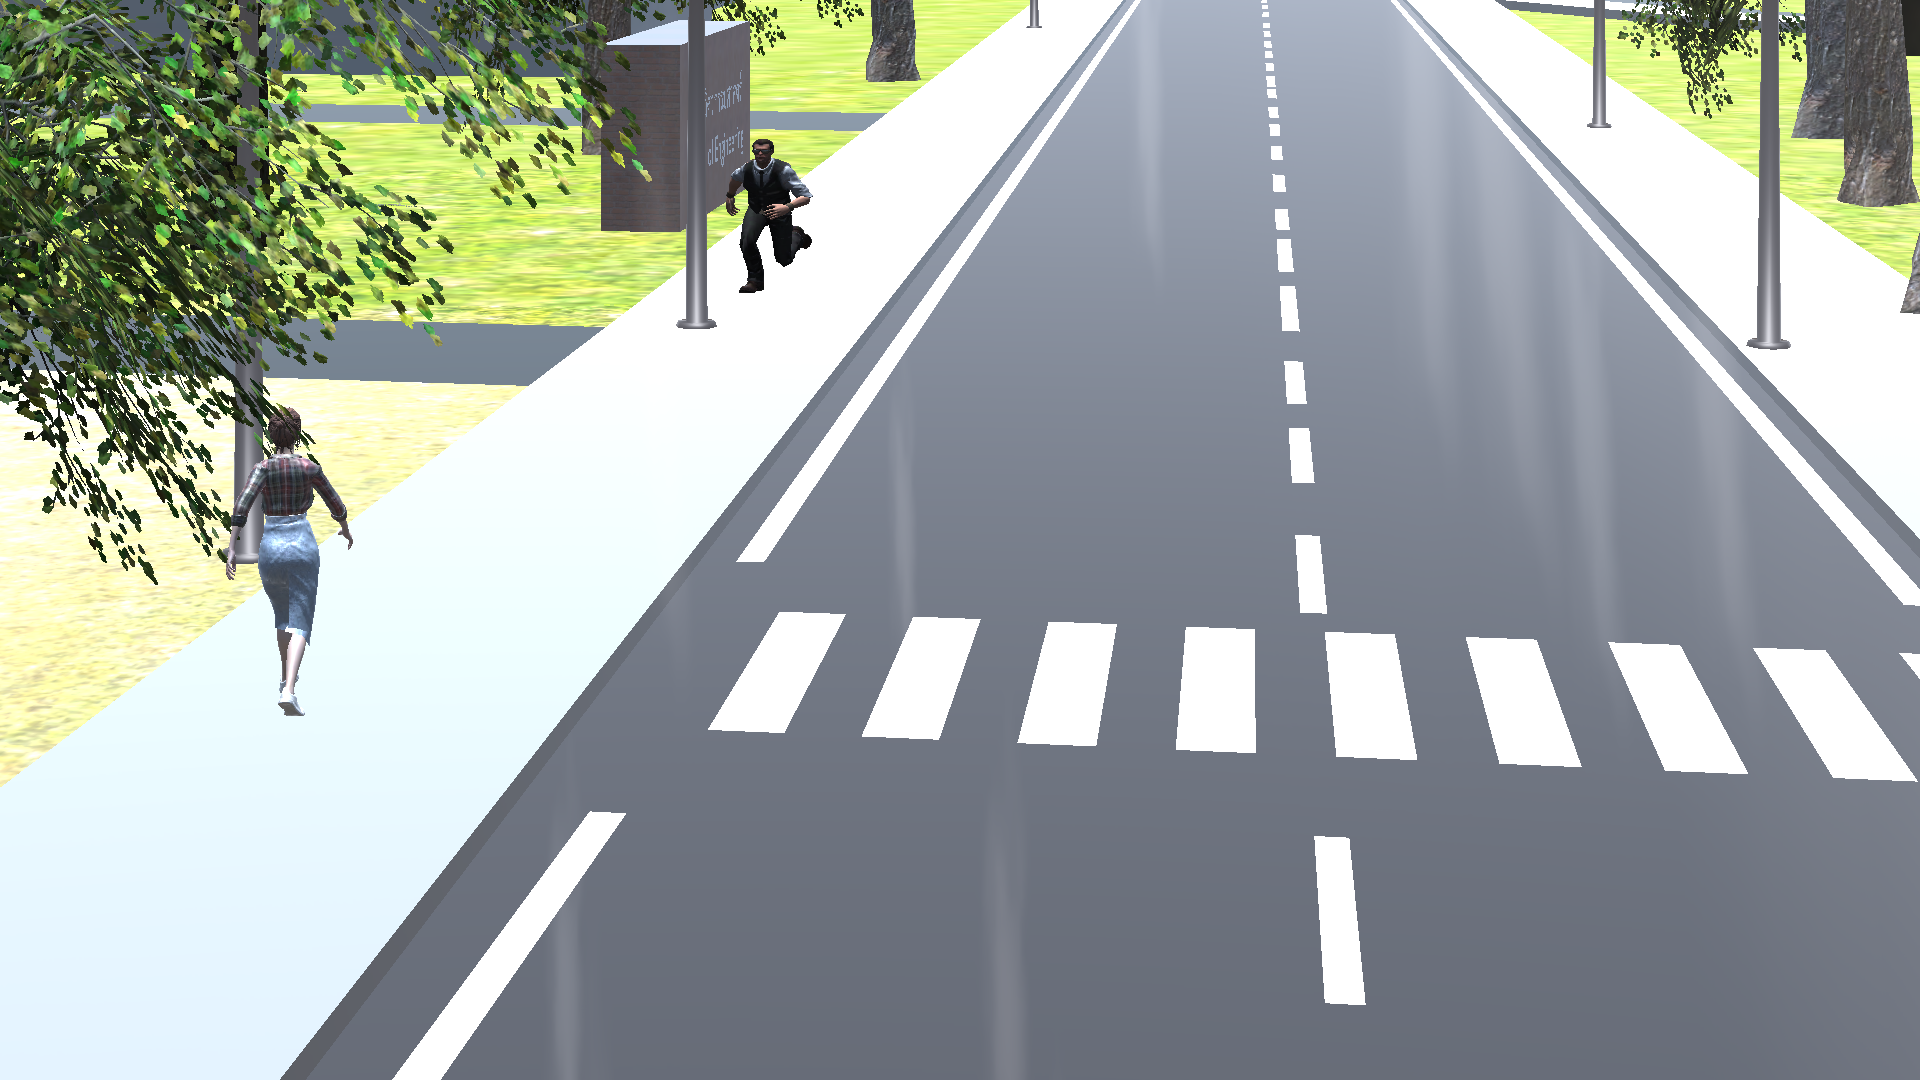pedestrian: (207, 399, 367, 736), (715, 125, 844, 313)
